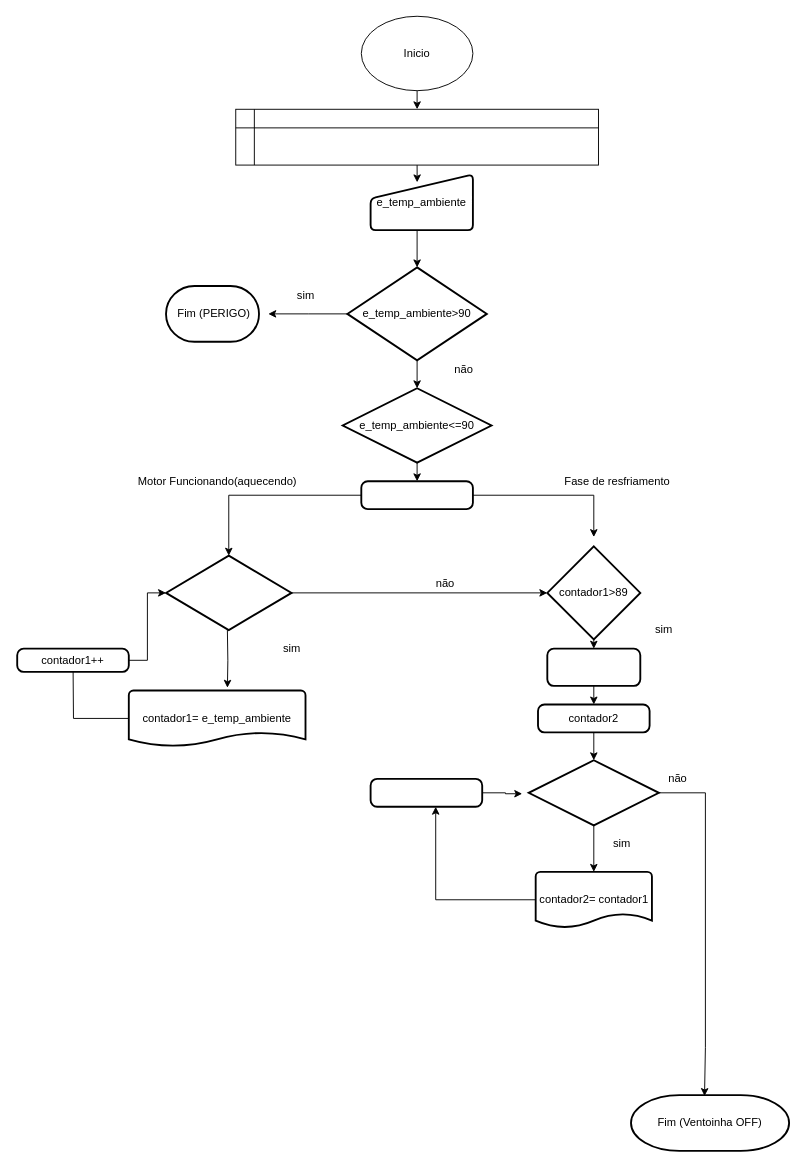
This 805x1168 diagram has some shape labels left out. The shapes that lost their labels are listed below. From the top down, each one's box as (x1, y1, x2, y2) in pixels, then its label:
(235, 108, 598, 165): e_temp_ambiente, contador1, contador2
(360, 480, 473, 510): contador1
(165, 554, 292, 631): contador1 < 91
(546, 647, 641, 686): Ventoinha ligada
(369, 777, 483, 807): contador2--
(527, 759, 659, 826): contador2>70
